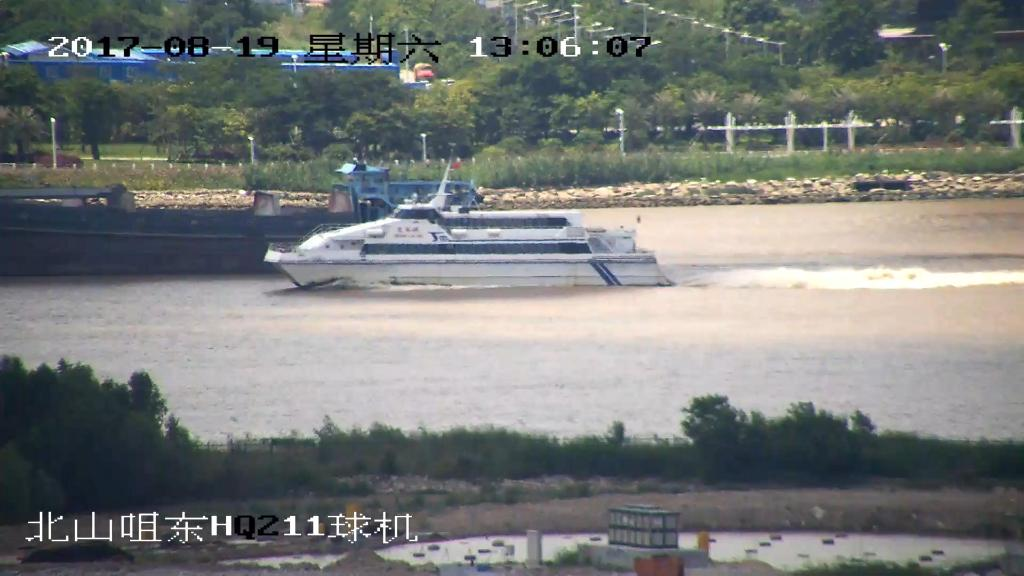PassengerShip: (258, 184, 678, 296)
